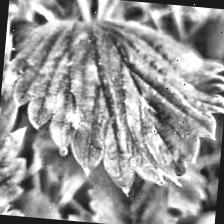Powdery Mildew Leaf: (0, 11, 224, 204)
